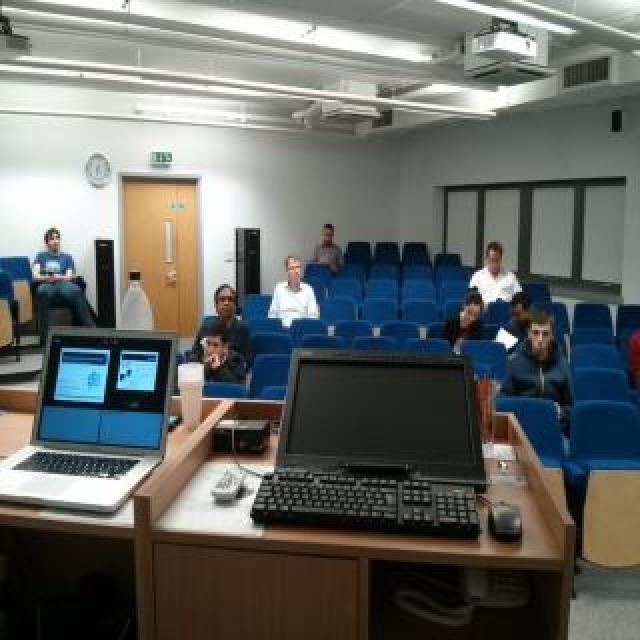laptop_computer: (257, 344, 488, 544), (13, 324, 178, 518)
mouse: (477, 488, 523, 547)
